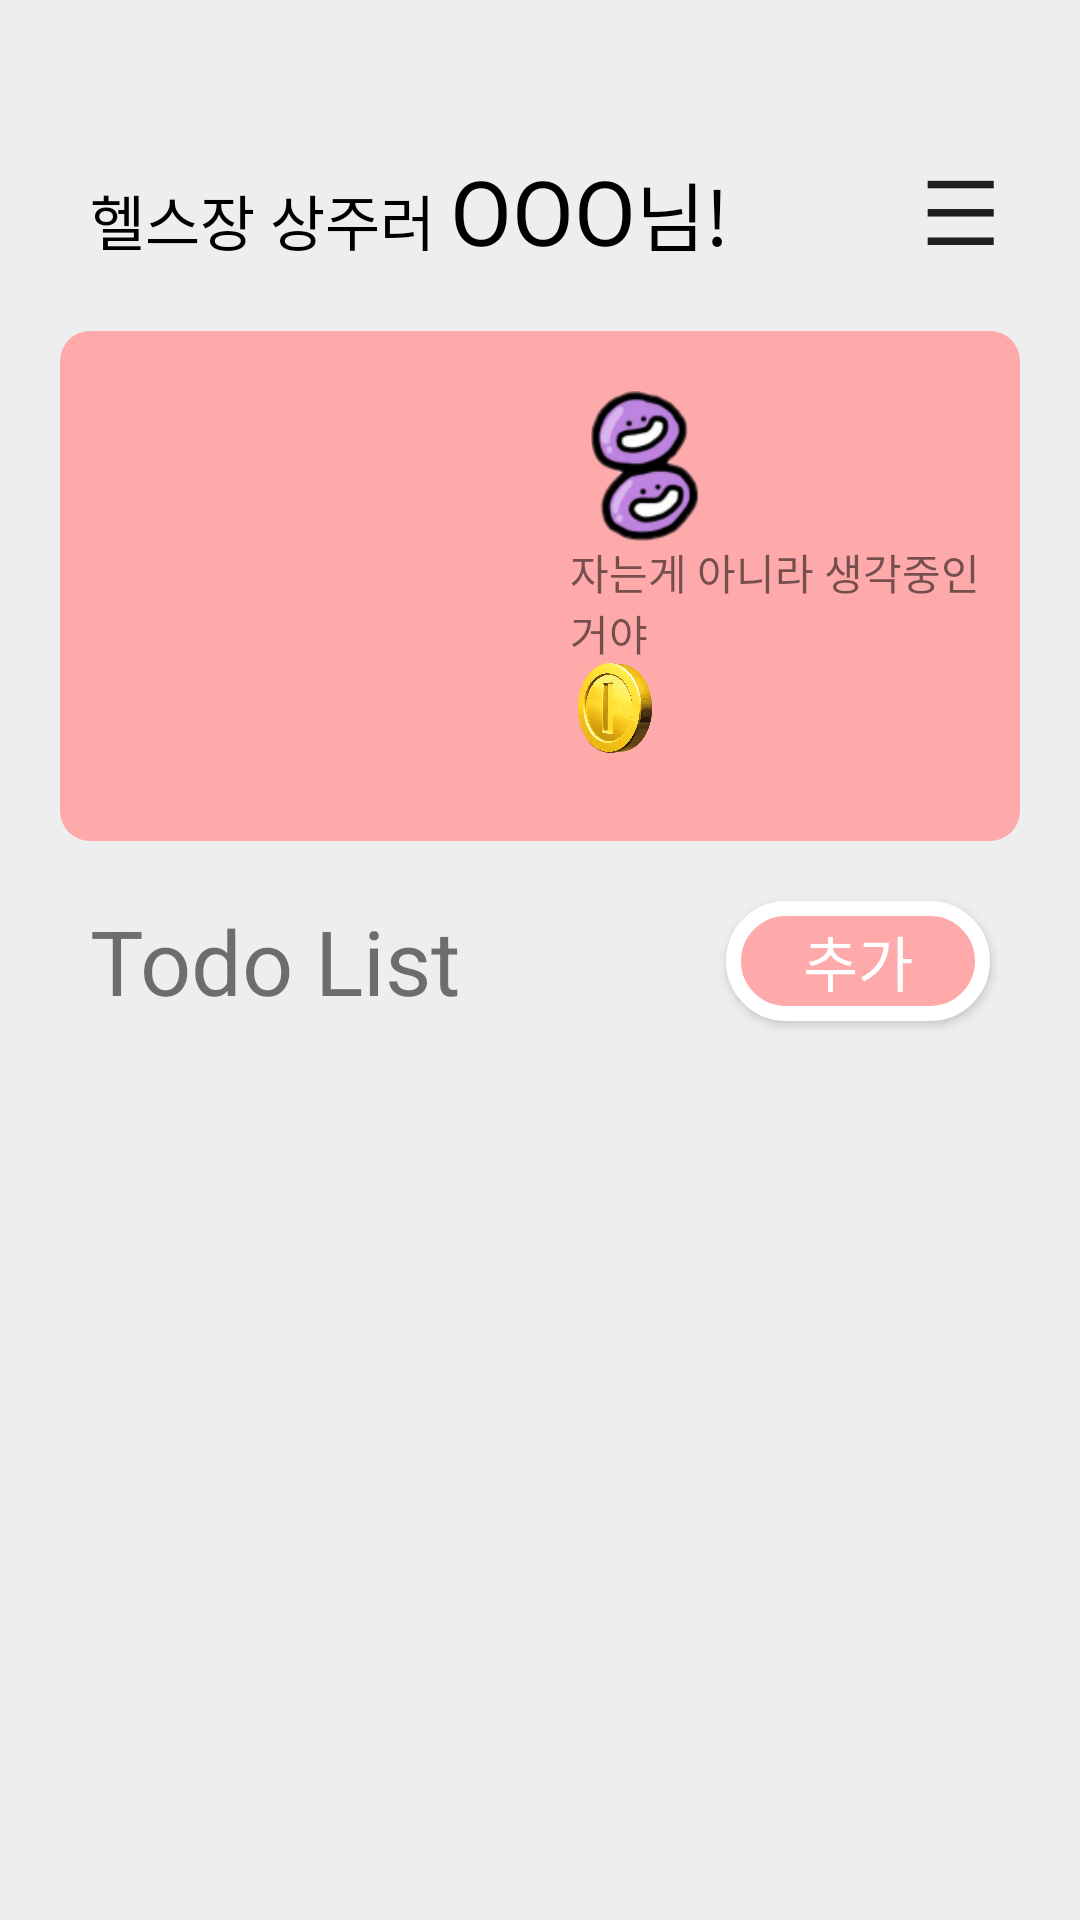

Icons on this 1080px x 1920px Android screen, each with its box as {"left": x1, "top": y1, "right": x2, "bottom": y2}:
coin: {"left": 578, "top": 663, "right": 652, "bottom": 753}
tanghuru: {"left": 591, "top": 391, "right": 699, "bottom": 541}
